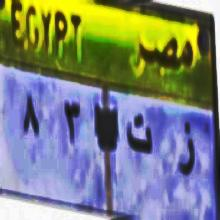3: (62, 94, 82, 150)
8: (21, 90, 40, 147)
taa: (126, 109, 154, 164)
zay: (177, 112, 196, 184)
